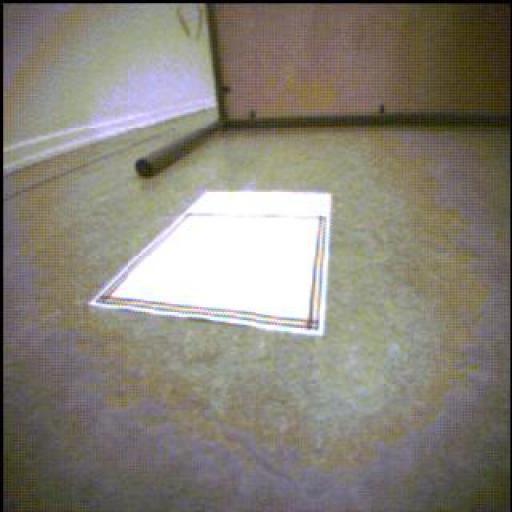Pad: (91, 193, 332, 337)
